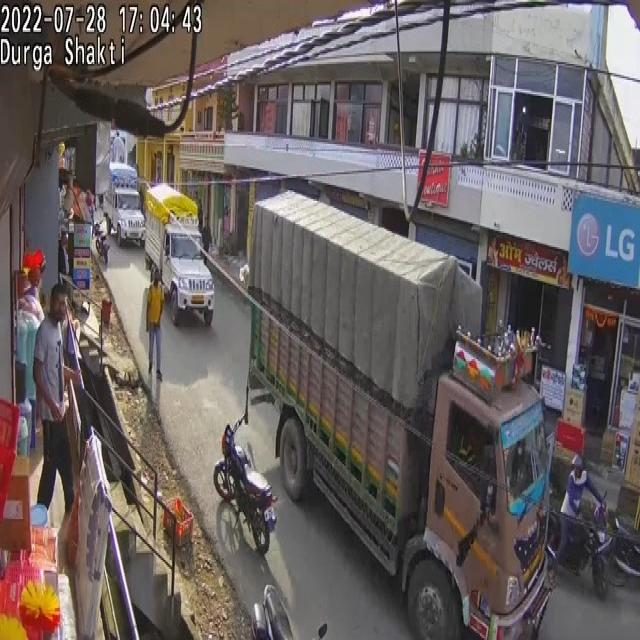non-fight: (33, 286, 78, 516), (558, 452, 606, 564), (146, 267, 165, 380)
